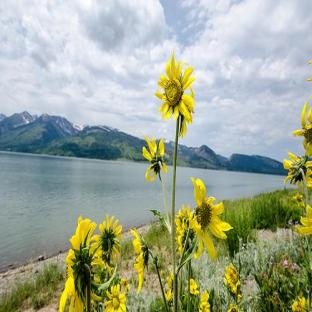sunflower: (154, 54, 196, 140)
